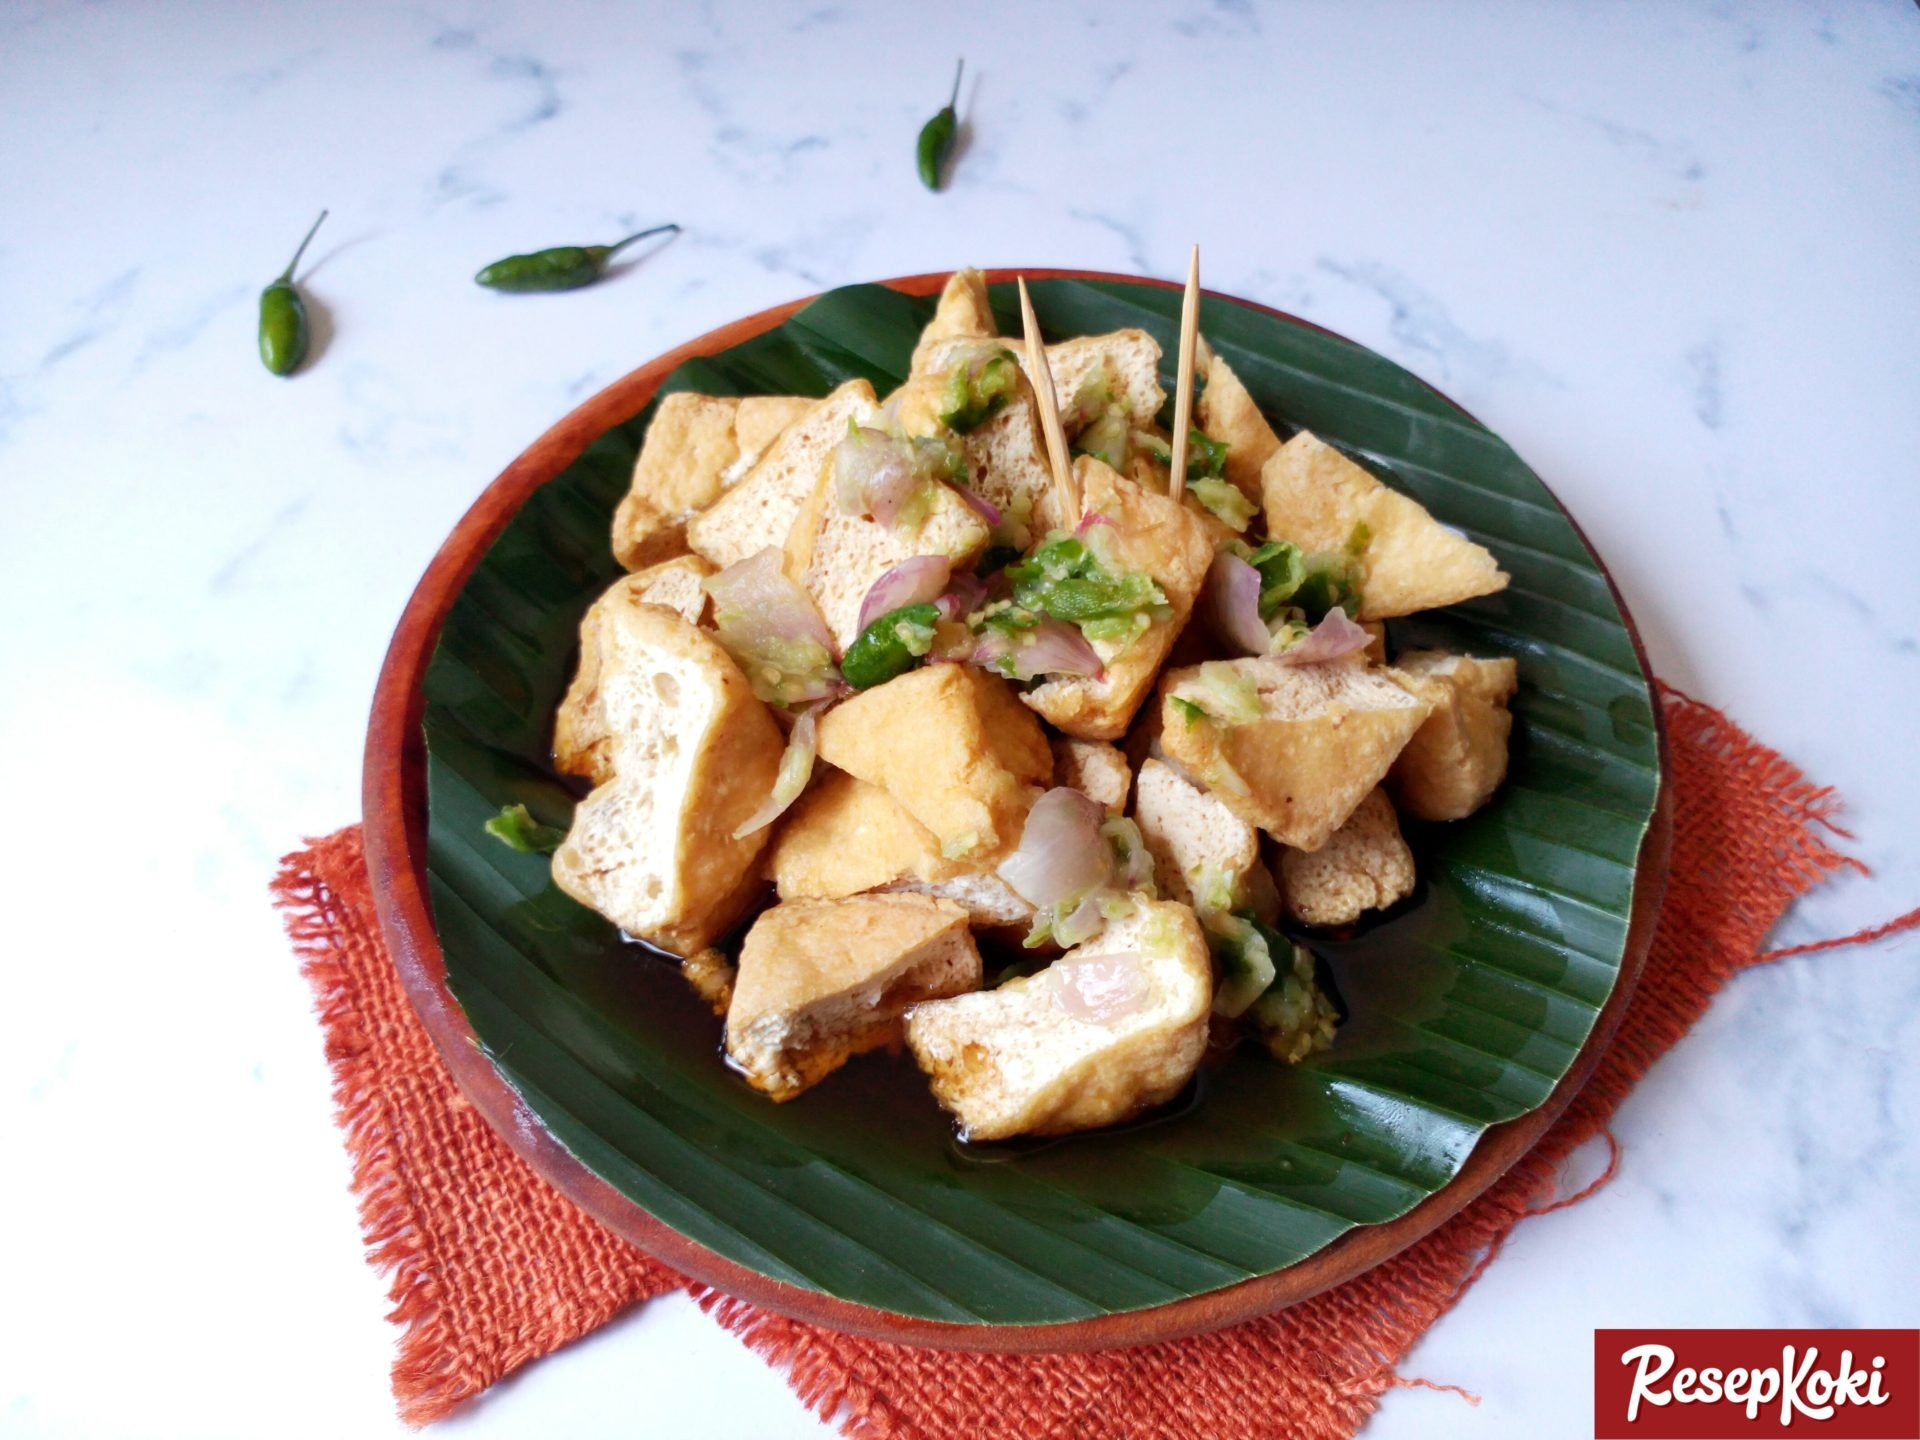tahu_gejrot: (534, 280, 1522, 1168)
